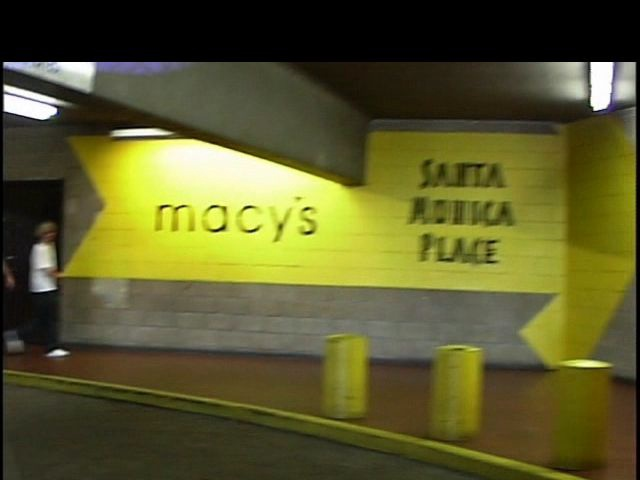person: (10, 209, 77, 371)
